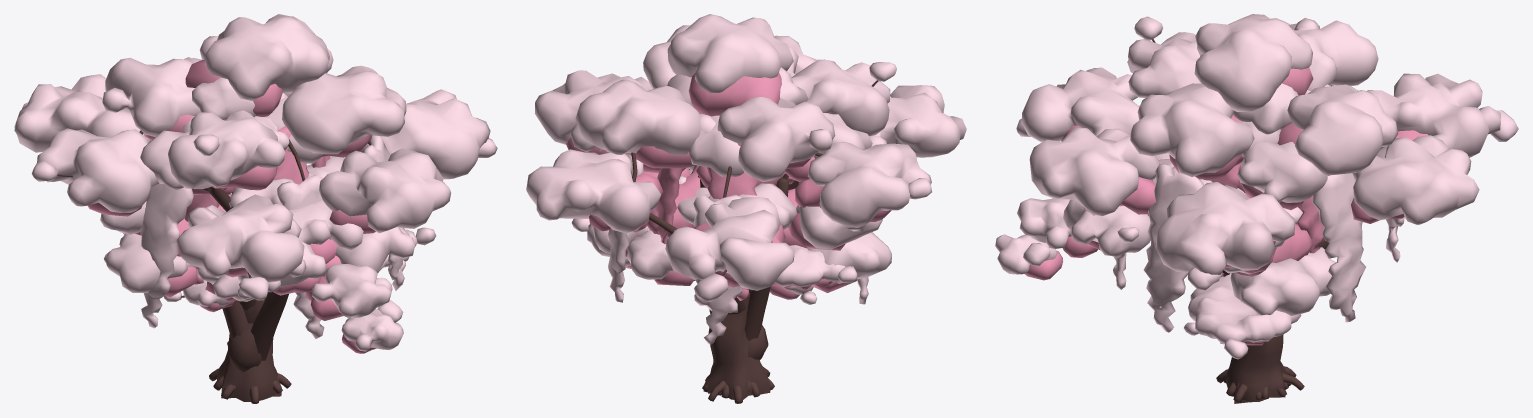
The model's file is BlossomSanctuary_Trees.fbx.
3 renders of one model, left to right at view 1: azimuth 30°, elevation 25°; view 2: azimuth 150°, elevation 25°; view 3: azimuth 270°, elevation 25°, orthographic. The views are drawn at different scales.
Parts seen in each view (by area): view 1: BS_TreeElder__BlossomPale, BS_TreeLeaning__BlossomPale, BS_TreeTwin__BlossomPale, BS_TreeWeeping__BlossomPale, BS_TreeElder__Blossom, BS_TreeElder__Bark, BS_TreeLeaning__Blossom, BS_TreeGnarled__Bark, BS_TreeLeaning__Bark, BS_TreeWeeping__Blossom, BS_TreeTwin__Blossom, BS_TreeYoung__BlossomPale (+2 smaller); view 2: BS_TreeElder__BlossomPale, BS_TreeTwin__BlossomPale, BS_TreeElder__Blossom, BS_TreeElder__Bark, BS_TreeWeeping__BlossomPale, BS_TreeTwin__Blossom, BS_TreeGnarled__BlossomPale, BS_TreeWeeping__Blossom, BS_TreeTwin__Bark, BS_TreeGnarled__Bark; view 3: BS_TreeElder__BlossomPale, BS_TreeTwin__BlossomPale, BS_TreeWeeping__BlossomPale, BS_TreeLeaning__BlossomPale, BS_TreeGnarled__BlossomPale, BS_TreeElder__Bark, BS_TreeElder__Blossom, BS_TreeTwin__Blossom, BS_TreeWeeping__Blossom, BS_TreeLeaning__Blossom.
Boxes of the visible parts, <box> form: BS_TreeElder__BlossomPale: <box>14,14,497,300</box>; BS_TreeLeaning__BlossomPale: <box>229,172,414,351</box>; BS_TreeTwin__BlossomPale: <box>100,77,345,301</box>; BS_TreeWeeping__BlossomPale: <box>139,93,404,338</box>; BS_TreeElder__Blossom: <box>88,59,375,277</box>; BS_TreeElder__Bark: <box>57,130,291,403</box>; BS_TreeLeaning__Blossom: <box>273,238,376,353</box>; BS_TreeGnarled__Bark: <box>213,323,282,399</box>; BS_TreeLeaning__Bark: <box>251,292,288,360</box>; BS_TreeWeeping__Blossom: <box>185,126,330,284</box>; BS_TreeTwin__Blossom: <box>123,187,236,302</box>; BS_TreeYoung__BlossomPale: <box>164,280,232,306</box>; BS_TreeElder__BlossomPale: <box>526,14,966,302</box>; BS_TreeTwin__BlossomPale: <box>592,67,891,283</box>; BS_TreeElder__Blossom: <box>565,72,891,287</box>; BS_TreeElder__Bark: <box>631,80,878,403</box>; BS_TreeWeeping__BlossomPale: <box>607,113,868,344</box>; BS_TreeTwin__Blossom: <box>625,113,857,292</box>; BS_TreeGnarled__BlossomPale: <box>571,175,857,287</box>; BS_TreeWeeping__Blossom: <box>654,165,799,300</box>; BS_TreeTwin__Bark: <box>698,173,788,395</box>; BS_TreeGnarled__Bark: <box>705,289,768,398</box>; BS_TreeElder__BlossomPale: <box>1016,14,1518,290</box>; BS_TreeTwin__BlossomPale: <box>1172,83,1335,315</box>; BS_TreeWeeping__BlossomPale: <box>1113,83,1404,332</box>; BS_TreeLeaning__BlossomPale: <box>995,153,1175,274</box>; BS_TreeGnarled__BlossomPale: <box>1184,207,1302,359</box>; BS_TreeElder__Bark: <box>1152,39,1329,402</box>; BS_TreeElder__Blossom: <box>1061,67,1428,273</box>; BS_TreeTwin__Blossom: <box>1234,166,1312,276</box>; BS_TreeWeeping__Blossom: <box>1203,162,1323,277</box>; BS_TreeLeaning__Blossom: <box>1025,214,1148,280</box>.
Size of the model in its own units: 42.37 by 35.31 by 44.22.
